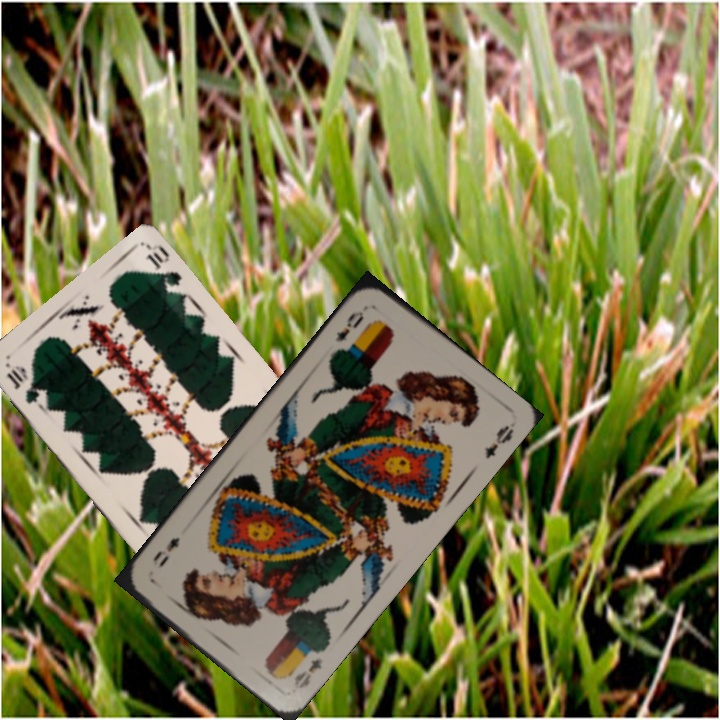EO: (331, 302, 370, 345), (289, 654, 326, 692)
G10: (2, 361, 42, 407)
